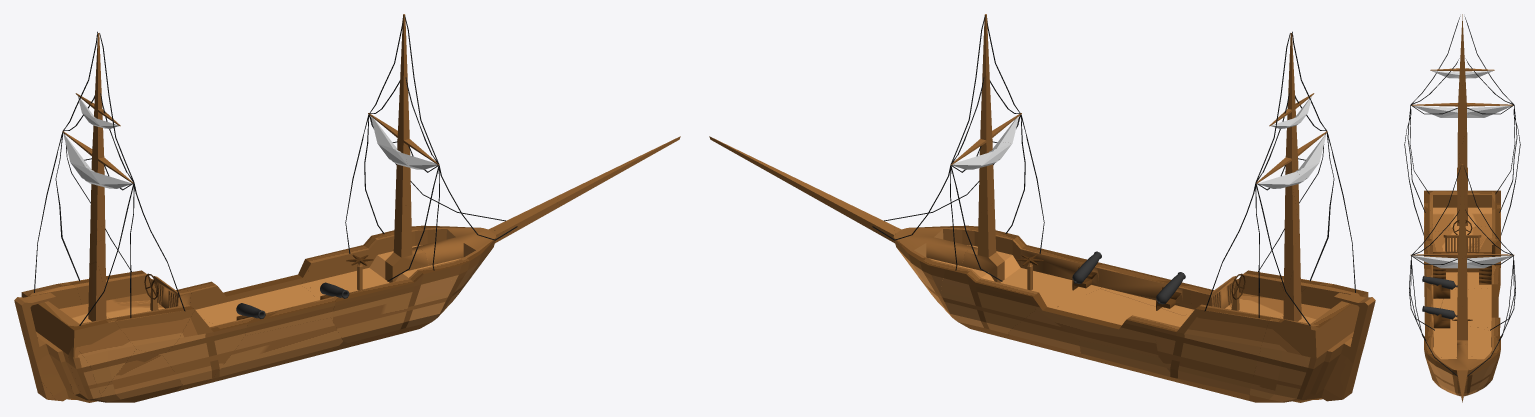
File: Ship_Broken.fbx
3 renders of one model, left to right at view 1: azimuth 30°, elevation 25°; view 2: azimuth 150°, elevation 25°; view 3: azimuth 270°, elevation 25°, orthographic. The views are drawn at different scales.
Parts seen in each view (by area): view 1: Sphere.001_cell, Sphere.001_cell.015_cell, Sphere.001_cell.015_cell.001, Sphere.001_cell.005, Sphere.001_cell.017, Sphere.001_cell.011_cell, Sphere.001_cell.015_cell.002, Sphere.001_cell.015_cell.003, Sphere.001_cell.019, Sphere.001_cell.008, Sphere.001_cell.003, Sphere.001_cell.030 (+6 smaller); view 2: Sphere.001_cell.015_cell, Sphere.001_cell, Sphere.001_cell.015_cell.001, Sphere.001_cell.017, Sphere.001_cell.011_cell, Sphere.001_cell.005, Sphere.001_cell.008, Sphere.001_cell.003, Sphere.001_cell.022, Sphere.001_cell.019, Sphere.001_cell.020, Sphere.001_cell.030 (+4 smaller); view 3: Sphere.001_cell.015_cell.001, Sphere.001_cell, Sphere.001_cell.015_cell, Sphere.001_cell.011_cell, Sphere.001_cell.017, Sphere.001_cell.003, Sphere.001_cell.019, Sphere.001_cell.030, Sphere.001_cell.020, Sphere.001_cell.008, Sphere.001_cell.009, Sphere.001_cell.013 (+6 smaller).
Part boxes in pixels (x1=…): Sphere.001_cell: x1=306, y1=202, x2=452, y2=344; Sphere.001_cell.015_cell: x1=14, y1=261, x2=136, y2=402; Sphere.001_cell.015_cell.001: x1=68, y1=228, x2=247, y2=391; Sphere.001_cell.005: x1=200, y1=317, x2=342, y2=385; Sphere.001_cell.017: x1=184, y1=258, x2=316, y2=325; Sphere.001_cell.011_cell: x1=393, y1=225, x2=506, y2=305; Sphere.001_cell.015_cell.002: x1=99, y1=349, x2=182, y2=402; Sphere.001_cell.015_cell.003: x1=115, y1=295, x2=194, y2=355; Sphere.001_cell.019: x1=384, y1=14, x2=451, y2=201; Sphere.001_cell.008: x1=236, y1=297, x2=335, y2=335; Sphere.001_cell.003: x1=347, y1=97, x2=416, y2=211; Sphere.001_cell.030: x1=88, y1=130, x2=150, y2=245; Sphere.001_cell.015_cell: x1=1249, y1=257, x2=1375, y2=402; Sphere.001_cell: x1=940, y1=149, x2=1105, y2=338; Sphere.001_cell.015_cell.001: x1=1154, y1=270, x2=1283, y2=400; Sphere.001_cell.017: x1=1031, y1=288, x2=1183, y2=357; Sphere.001_cell.011_cell: x1=892, y1=225, x2=978, y2=307; Sphere.001_cell.005: x1=1079, y1=286, x2=1193, y2=384; Sphere.001_cell.008: x1=1097, y1=264, x2=1194, y2=310; Sphere.001_cell.003: x1=916, y1=131, x2=1012, y2=256; Sphere.001_cell.022: x1=1008, y1=306, x2=1082, y2=357; Sphere.001_cell.019: x1=967, y1=14, x2=1029, y2=148; Sphere.001_cell.020: x1=1271, y1=31, x2=1316, y2=137; Sphere.001_cell.030: x1=1282, y1=113, x2=1342, y2=222; Sphere.001_cell.015_cell.001: x1=1424, y1=193, x2=1512, y2=289; Sphere.001_cell: x1=1409, y1=281, x2=1506, y2=393; Sphere.001_cell.015_cell: x1=1422, y1=168, x2=1500, y2=231; Sphere.001_cell.011_cell: x1=1424, y1=344, x2=1500, y2=396; Sphere.001_cell.017: x1=1441, y1=274, x2=1500, y2=327; Sphere.001_cell.003: x1=1439, y1=236, x2=1515, y2=326; Sphere.001_cell.019: x1=1409, y1=164, x2=1490, y2=285; Sphere.001_cell.030: x1=1404, y1=83, x2=1473, y2=154; Sphere.001_cell.020: x1=1429, y1=14, x2=1491, y2=85; Sphere.001_cell.008: x1=1422, y1=276, x2=1455, y2=307; Sphere.001_cell.009: x1=1472, y1=74, x2=1520, y2=196; Sphere.001_cell.013: x1=1413, y1=105, x2=1469, y2=117.
Bounding box in the file's own units: 345 × 71.79 × 182.
1 material, 1 textured.
